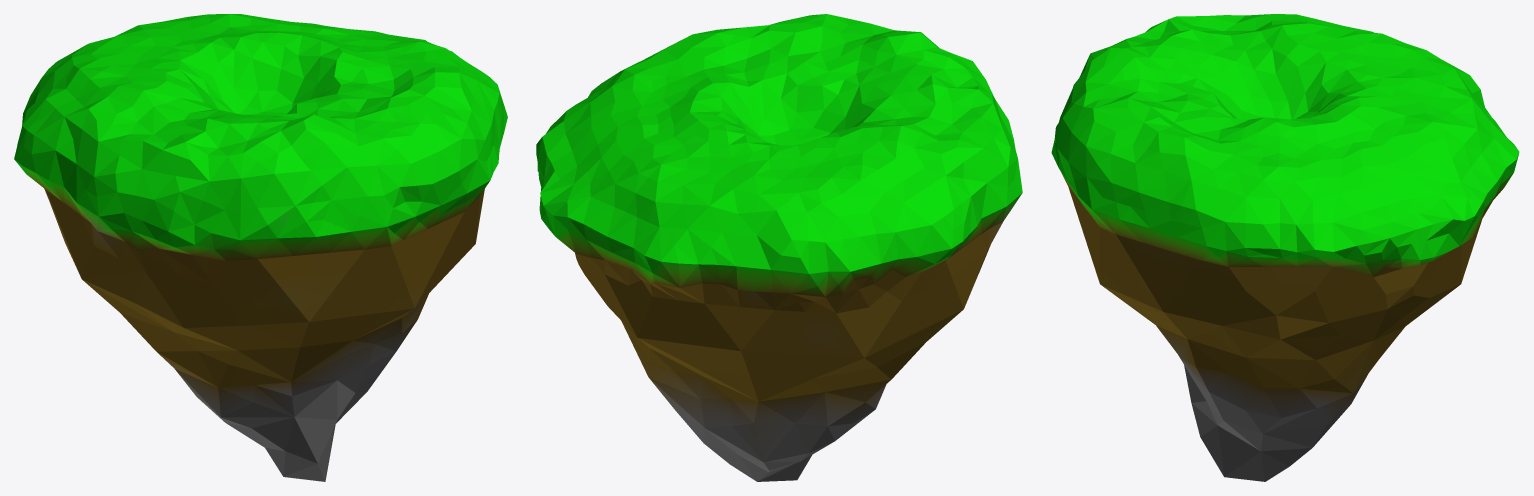
Rendered from Sky Island.fbx.
3 views of the same model, side by side, from view 1: azimuth 30°, elevation 25°; view 2: azimuth 150°, elevation 25°; view 3: azimuth 270°, elevation 25° (orthographic). The views are drawn at different scales.
Parts seen in each view (by area): view 1: Icosphere; view 2: Icosphere; view 3: Icosphere.
Boxes of the visible parts, left/top/right/bottom form: Icosphere: left=14, top=14, right=507, bottom=481; Icosphere: left=536, top=14, right=1022, bottom=481; Icosphere: left=1051, top=14, right=1519, bottom=481.
Size of the model in its own units: 2111 by 1963 by 2097.
